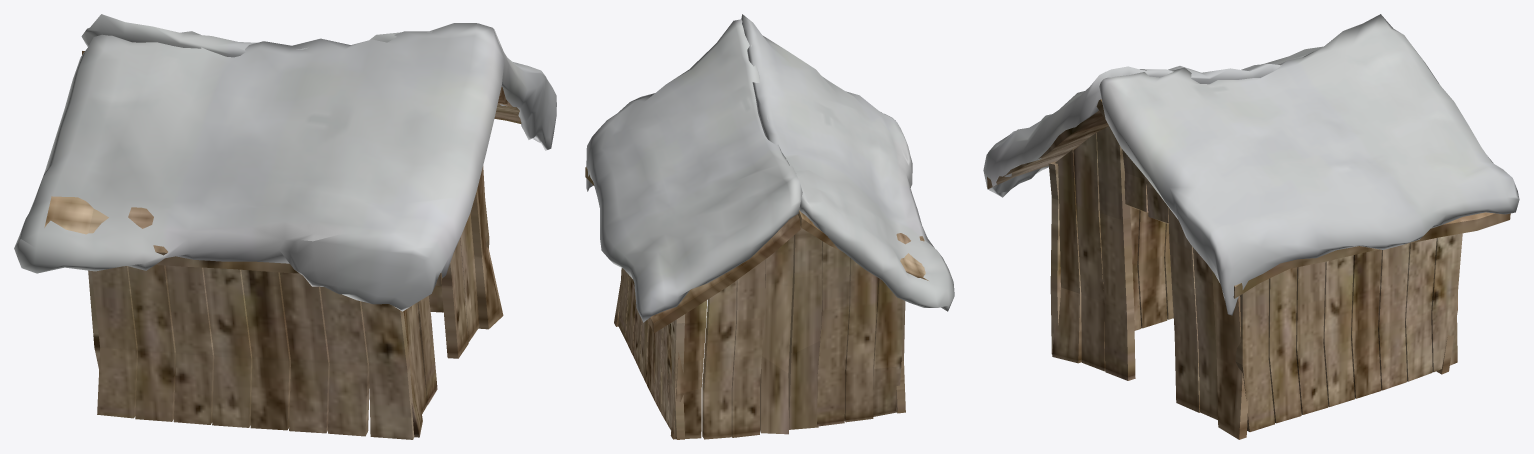
Rendered from cabin.glb.
3 views of the same model, side by side, from view 1: azimuth 30°, elevation 25°; view 2: azimuth 150°, elevation 25°; view 3: azimuth 270°, elevation 25° (orthographic). The views are drawn at different scales.
Visible parts, largest first — view 1: Cube.001, Cube; view 2: Cube.001, Cube; view 3: Cube.001, Cube.
Part boxes in pixels (bbox=[...]): Cube.001: bbox=[14, 14, 556, 311]; Cube: bbox=[44, 51, 521, 439]; Cube.001: bbox=[586, 14, 954, 322]; Cube: bbox=[585, 167, 928, 439]; Cube.001: bbox=[983, 14, 1519, 315]; Cube: bbox=[987, 99, 1510, 439].
Size of the model in its own units: 1.72 by 1.28 by 1.77.
2 materials, 2 textured.
